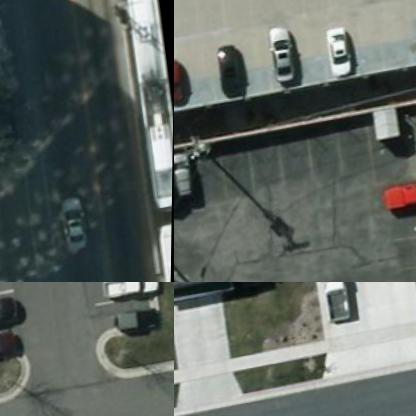car: (266, 26, 302, 94), (315, 282, 362, 333), (174, 150, 207, 208), (323, 26, 358, 80), (218, 51, 254, 102), (104, 282, 166, 309), (62, 203, 90, 258), (380, 178, 415, 216), (174, 59, 194, 112), (0, 13, 18, 71), (0, 331, 21, 370), (0, 295, 17, 335)
